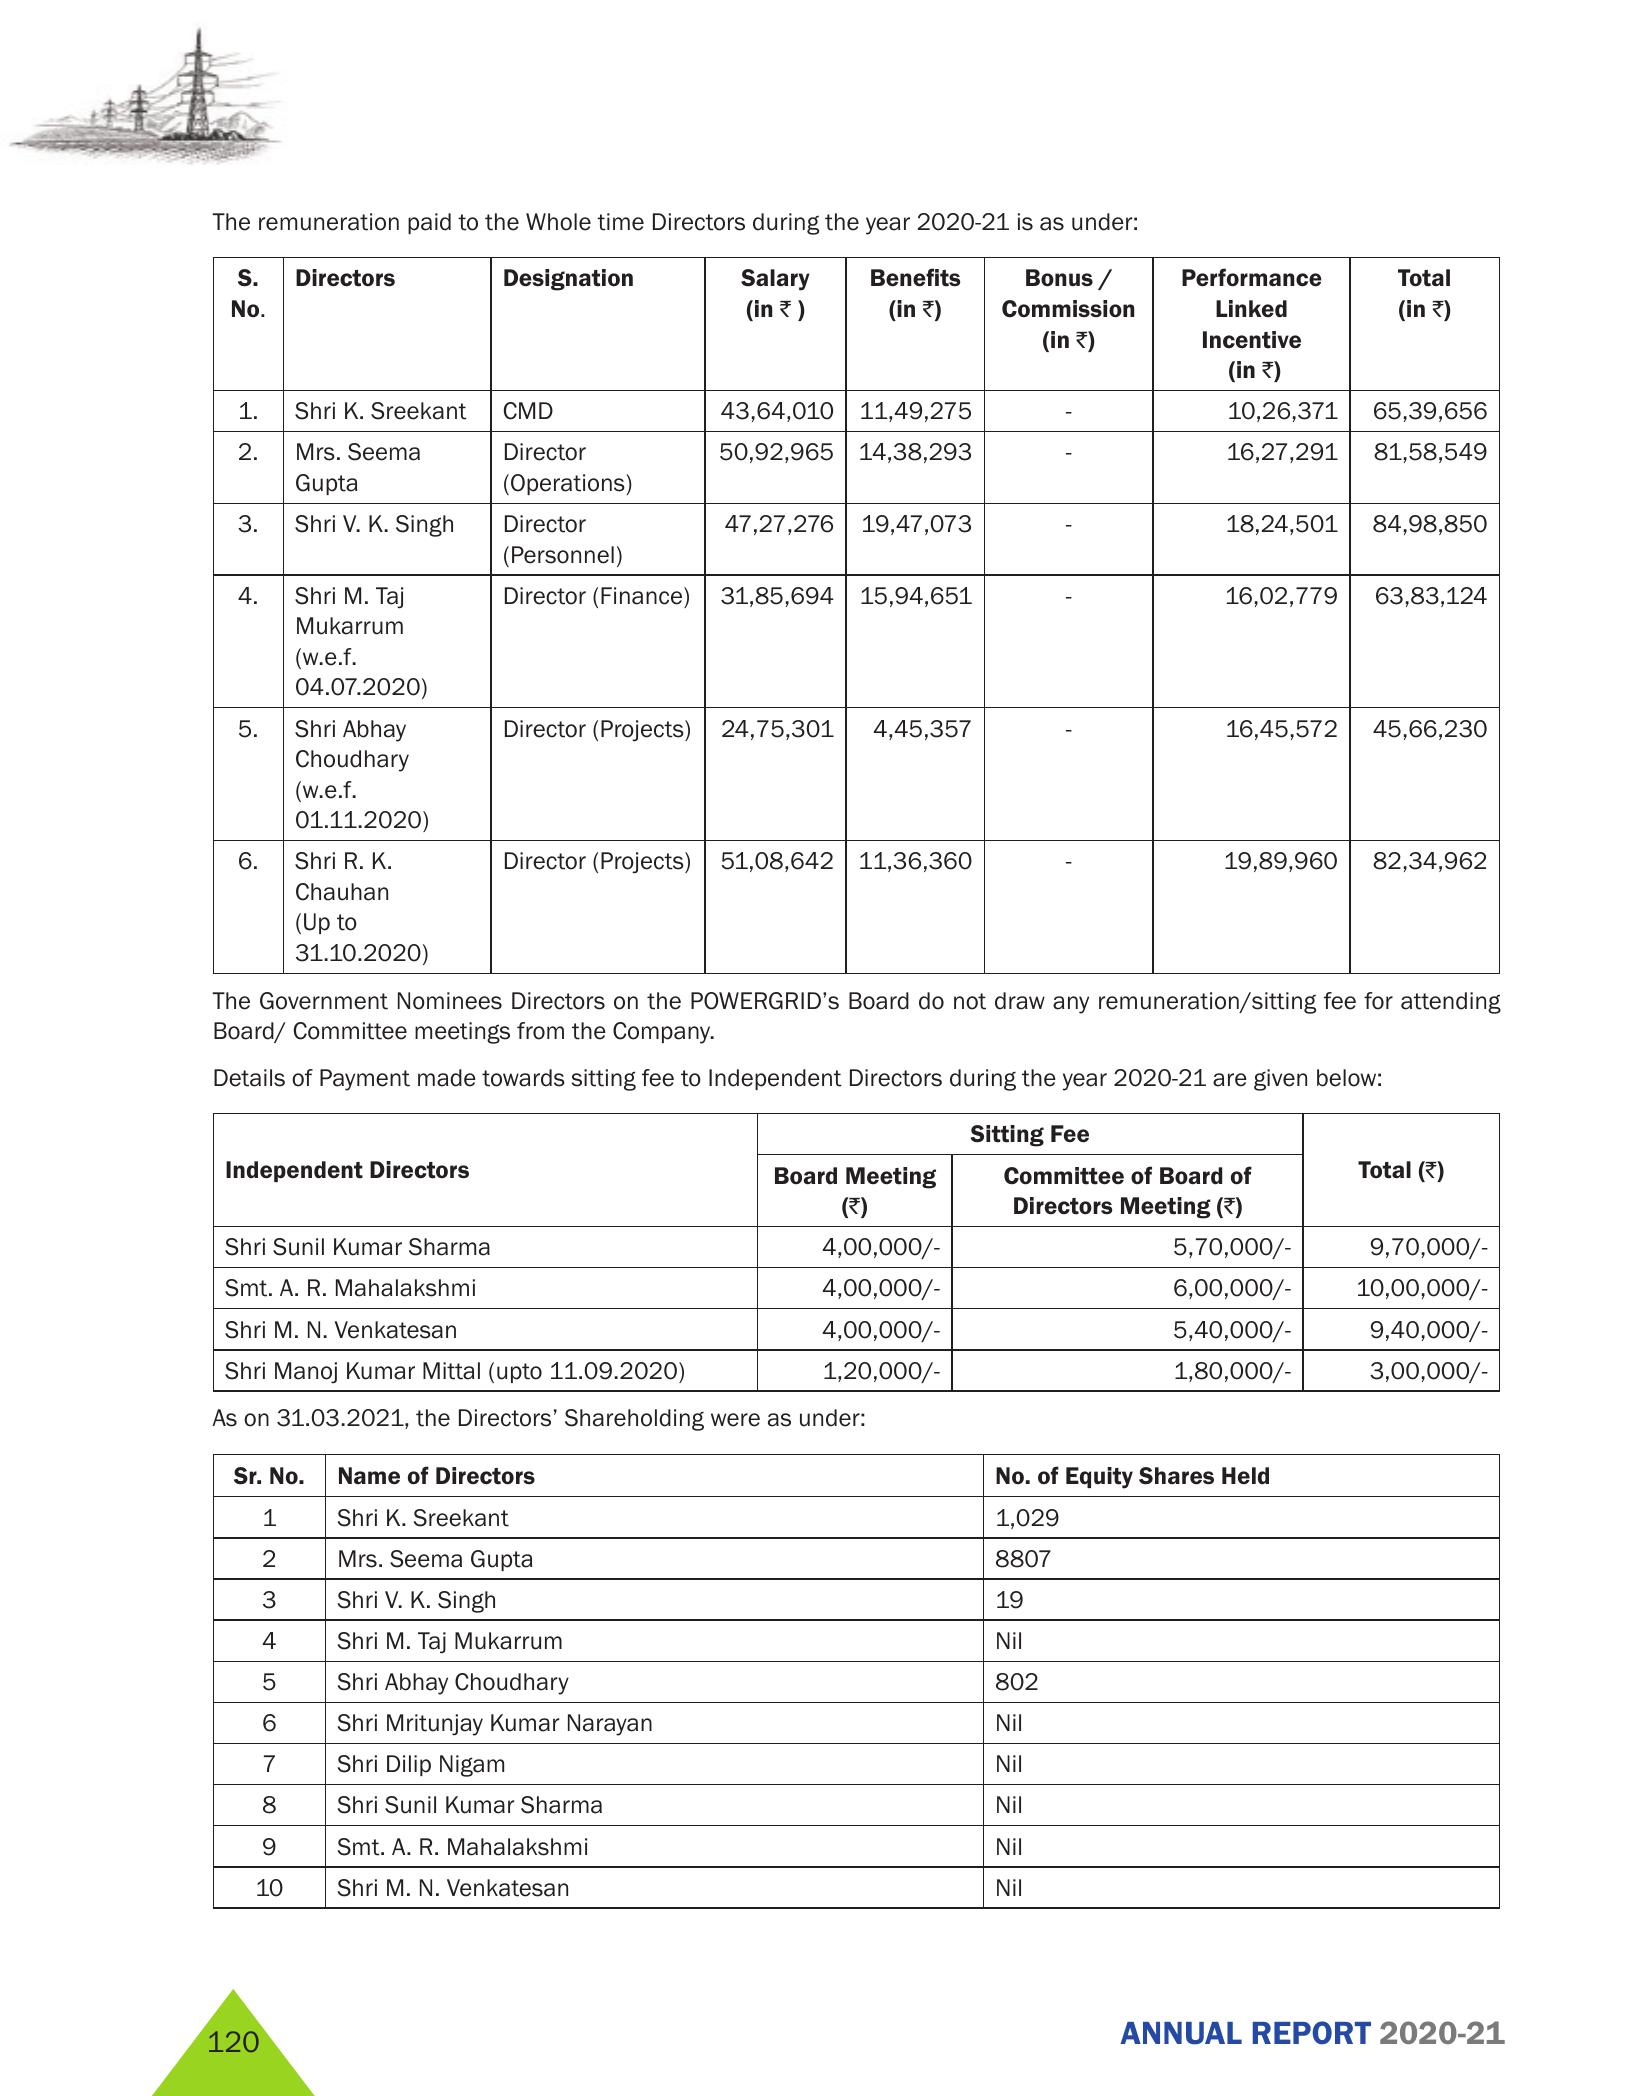Footer: (0, 1965, 1650, 2096)
Header: (0, 0, 1650, 168)
Table: (139, 236, 1551, 985), (129, 1455, 1521, 1916), (155, 1114, 1521, 1385)
